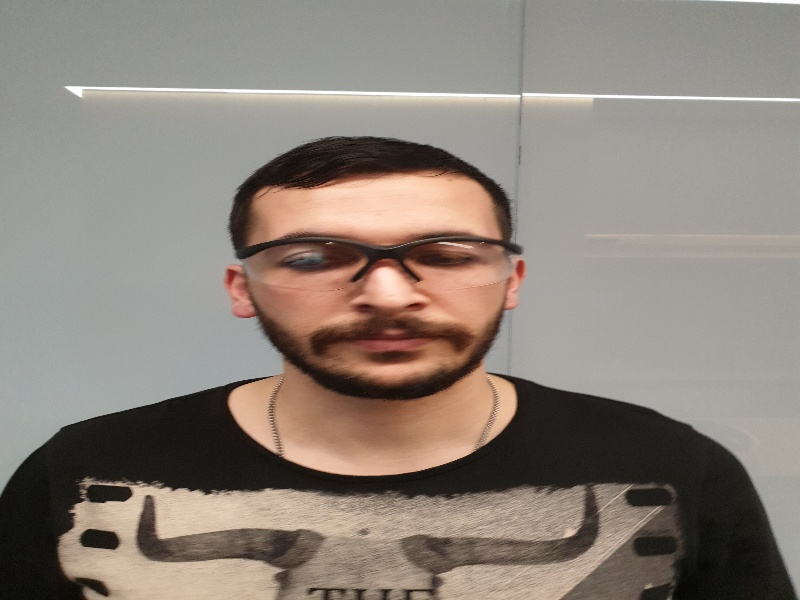Gozluk: (242, 236, 521, 284)
